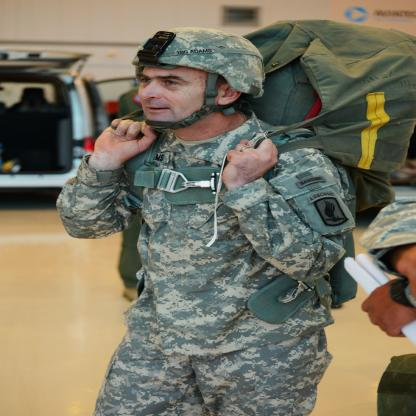Helmet: (123, 26, 274, 132)
